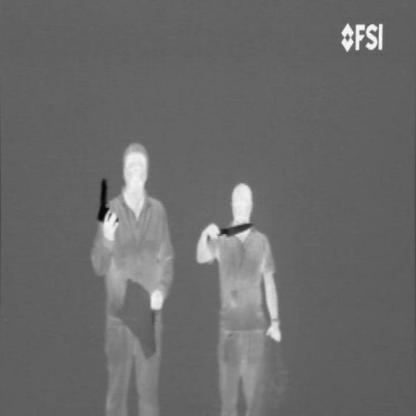weapon: (94, 174, 122, 227)
